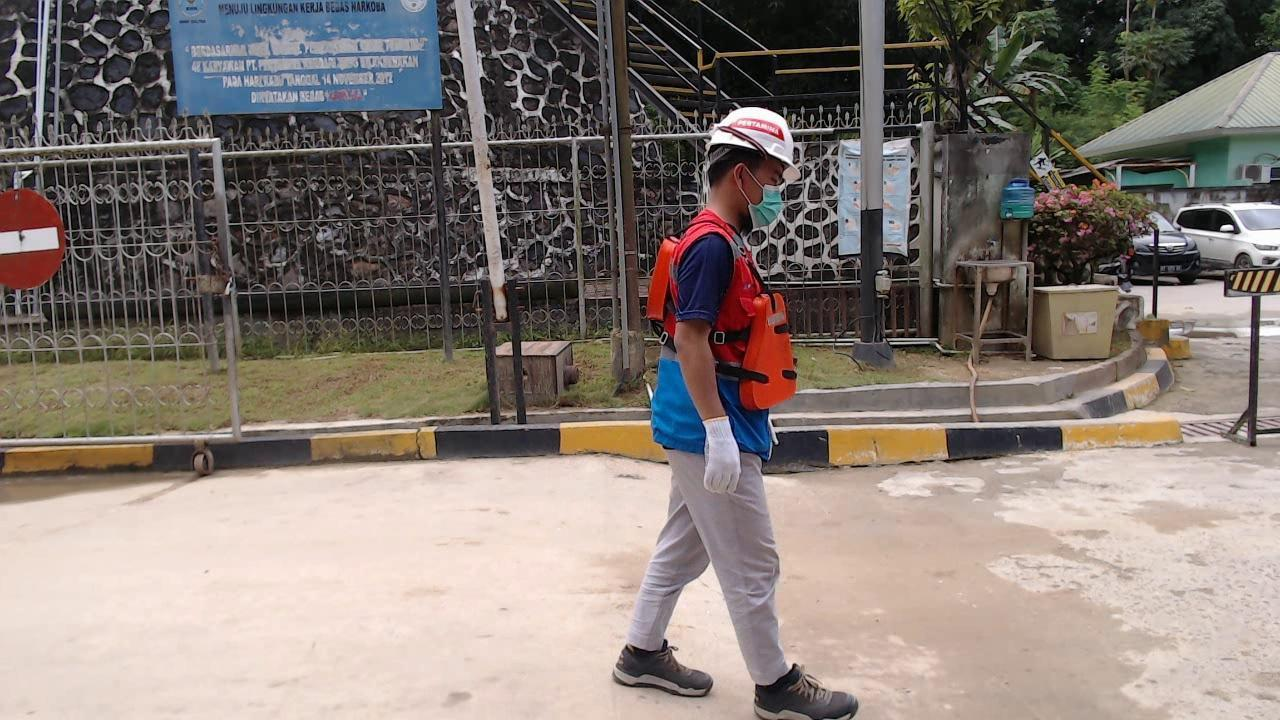vest: (646, 231, 809, 412)
